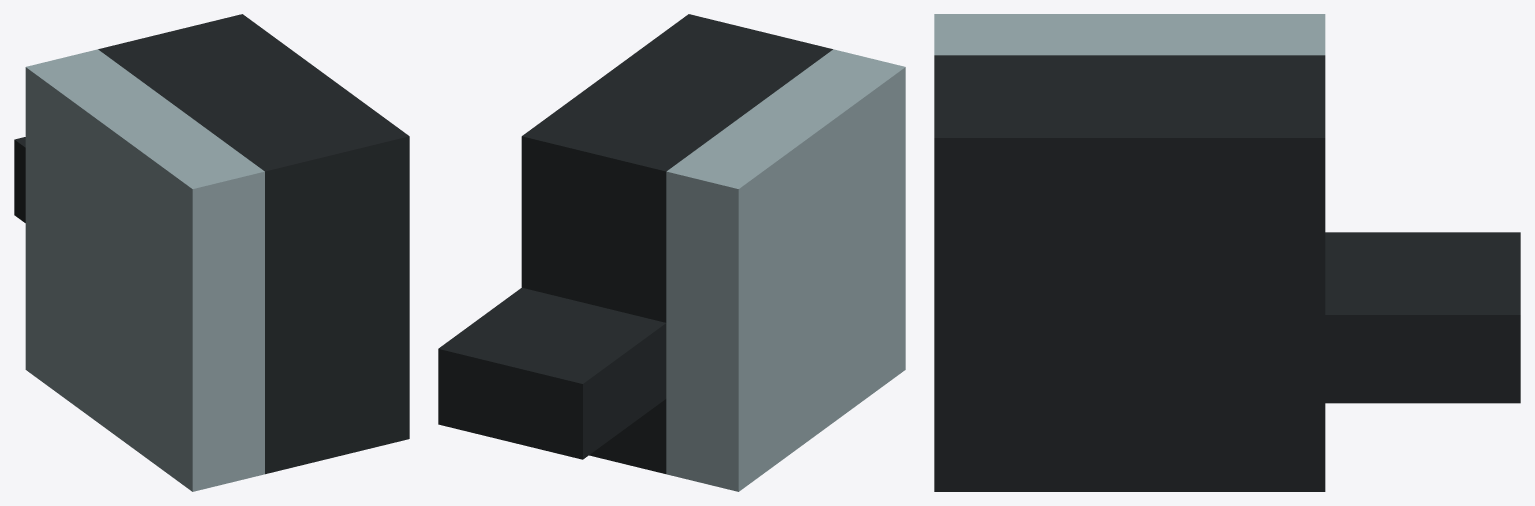
Rendered from door_mirror.glb.
3 views of the same model, side by side, from view 1: azimuth 30°, elevation 25°; view 2: azimuth 150°, elevation 25°; view 3: azimuth 270°, elevation 25° (orthographic). The views are drawn at different scales.
Visible parts, largest first — view 1: body:compound; view 2: body:compound; view 3: body:compound.
Boxes of the visible parts, left/top/right/bottom form: body:compound: left=14, top=14, right=409, bottom=491; body:compound: left=438, top=14, right=905, bottom=491; body:compound: left=934, top=14, right=1520, bottom=491.
Size of the model in its own units: 0.0938 by 0.125 by 0.1875.
